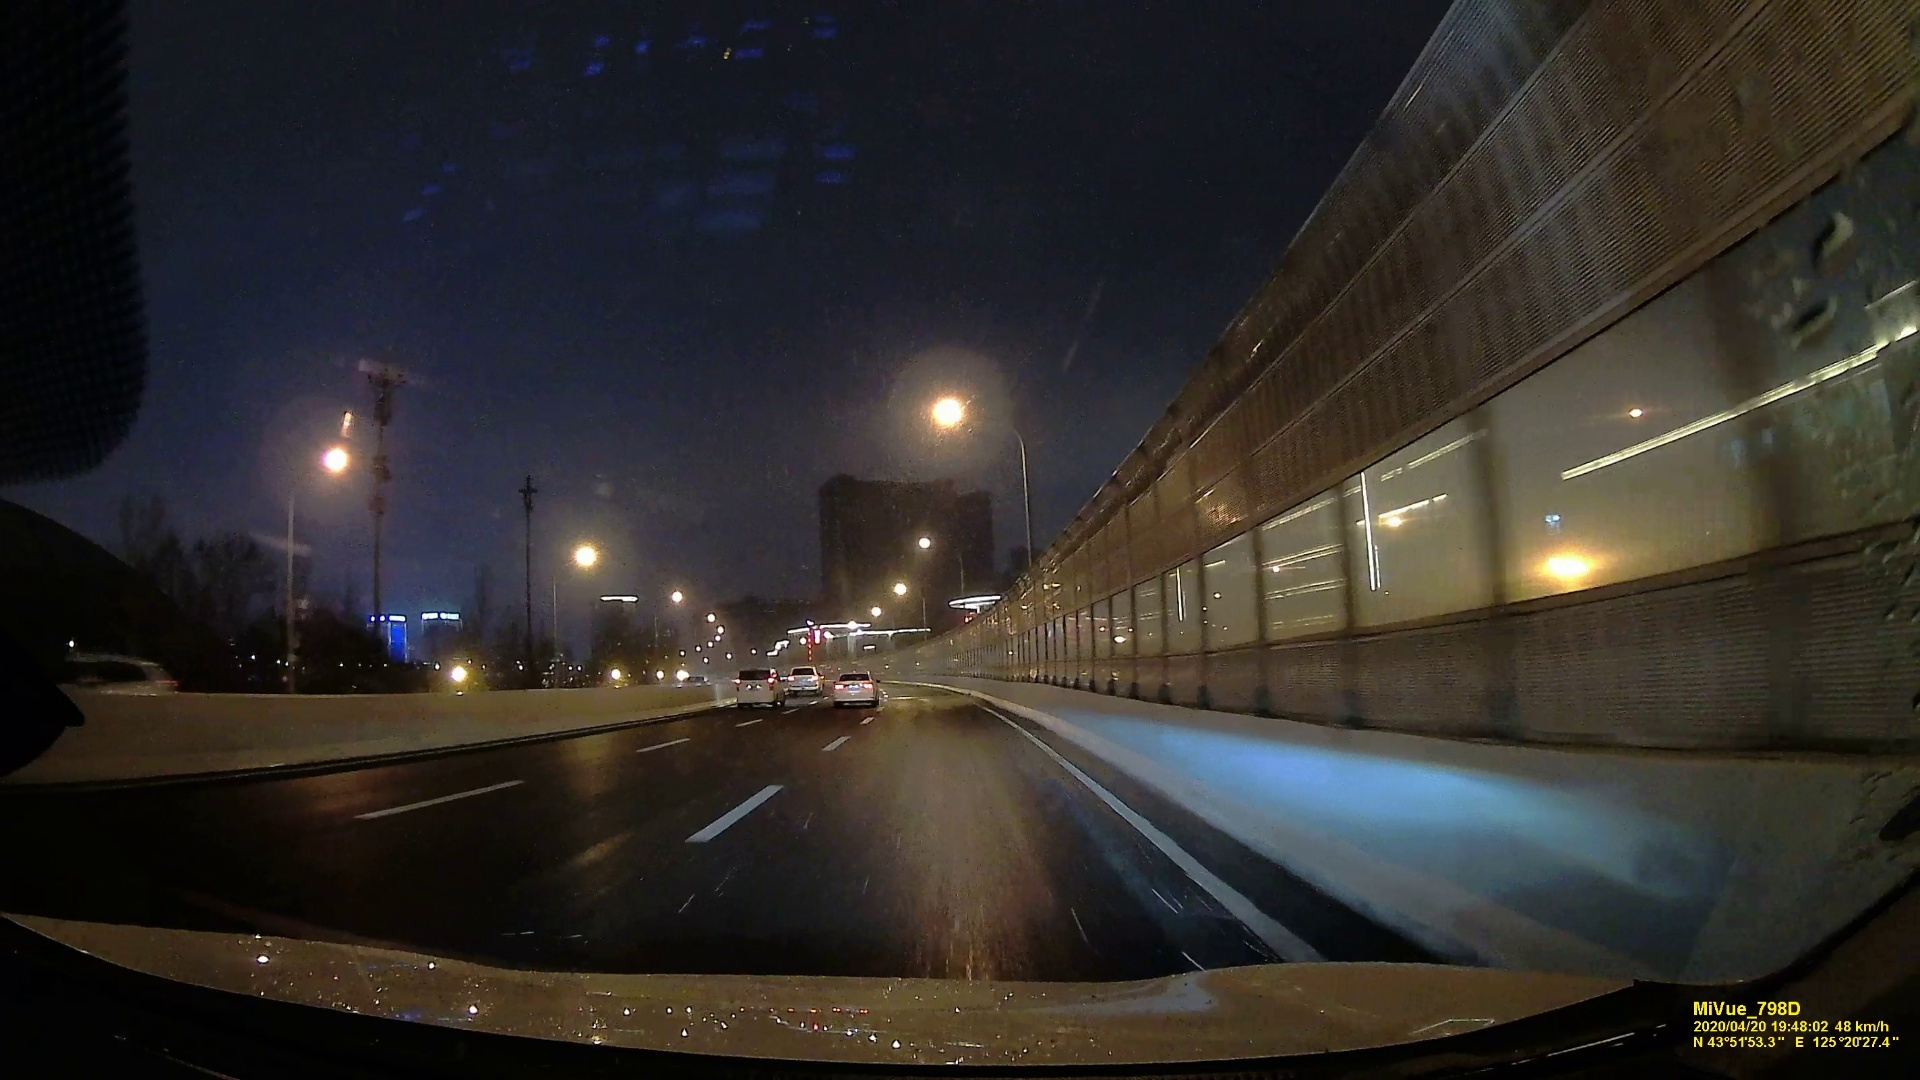minibus: (732, 665, 783, 705)
vehicle: (833, 673, 876, 704), (786, 667, 824, 694)
